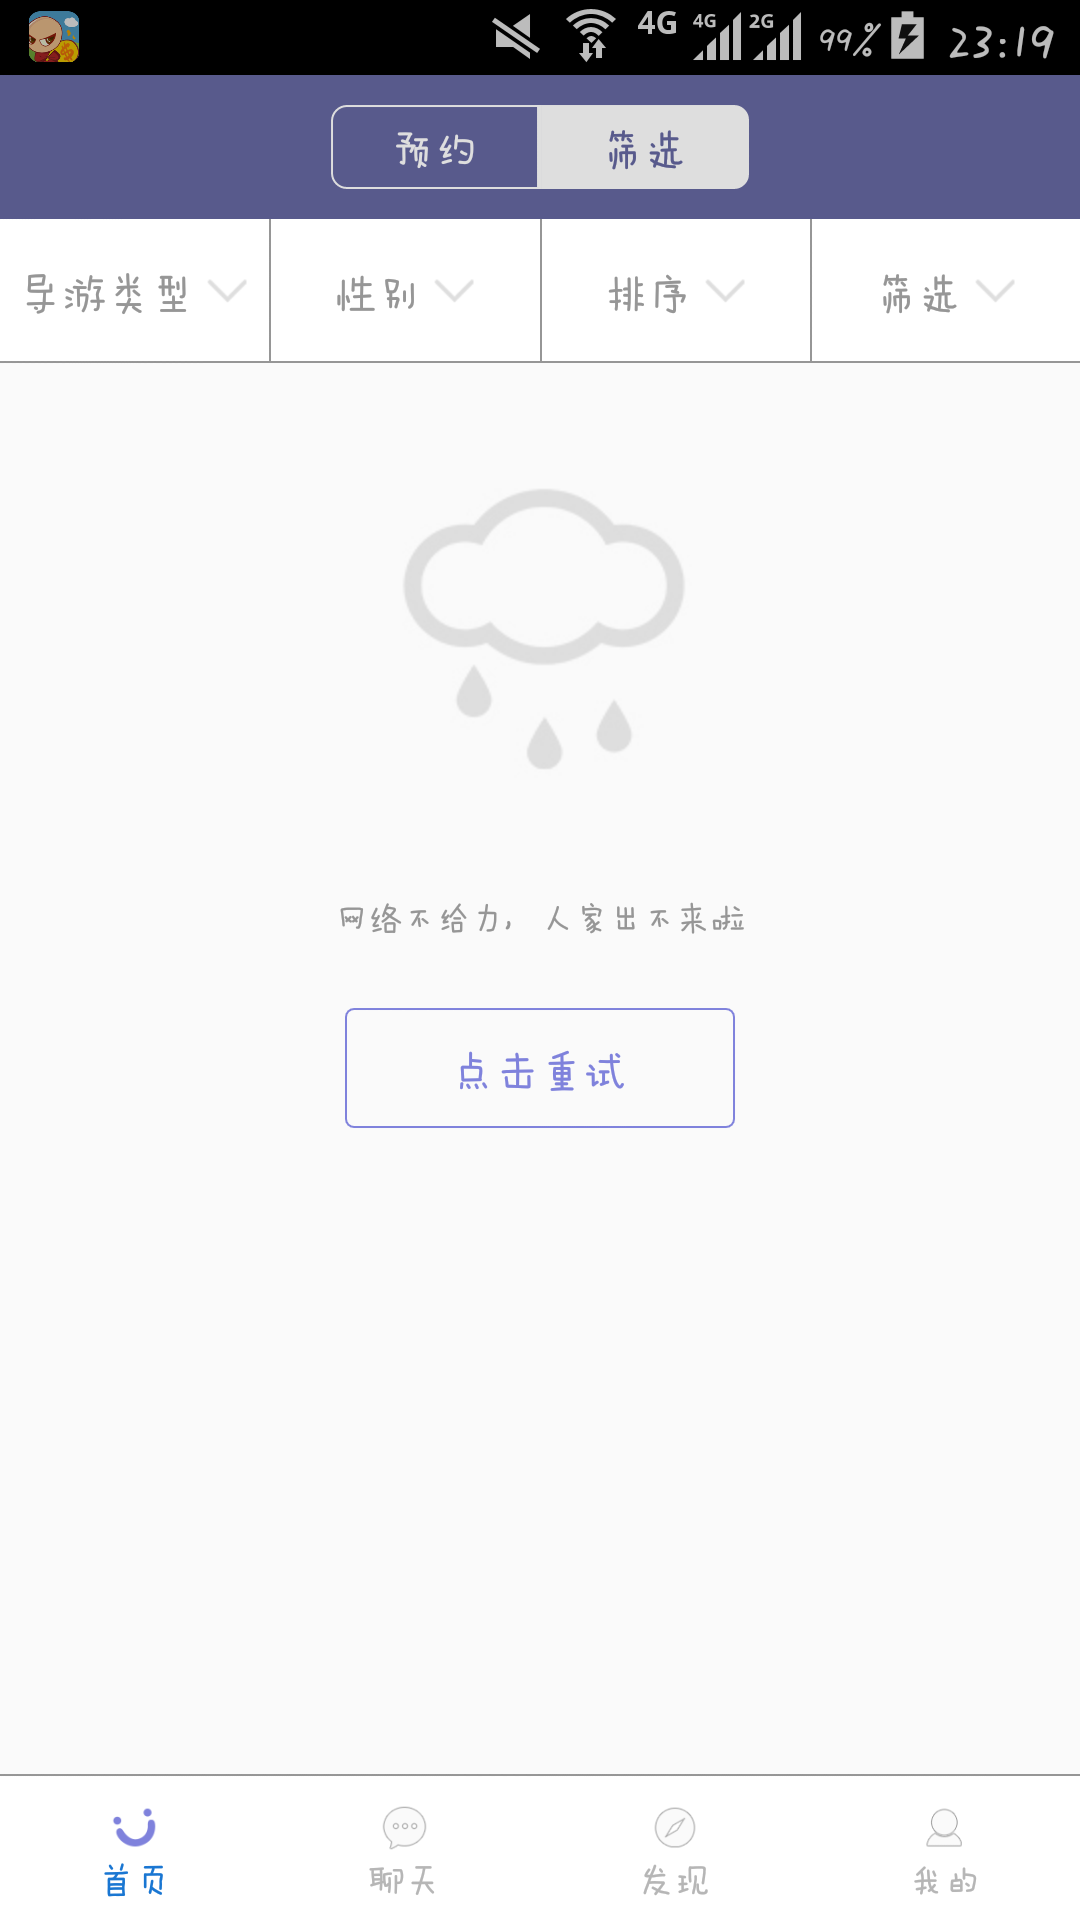button: (331, 996, 745, 1145)
imgbutton: (200, 249, 255, 320)
